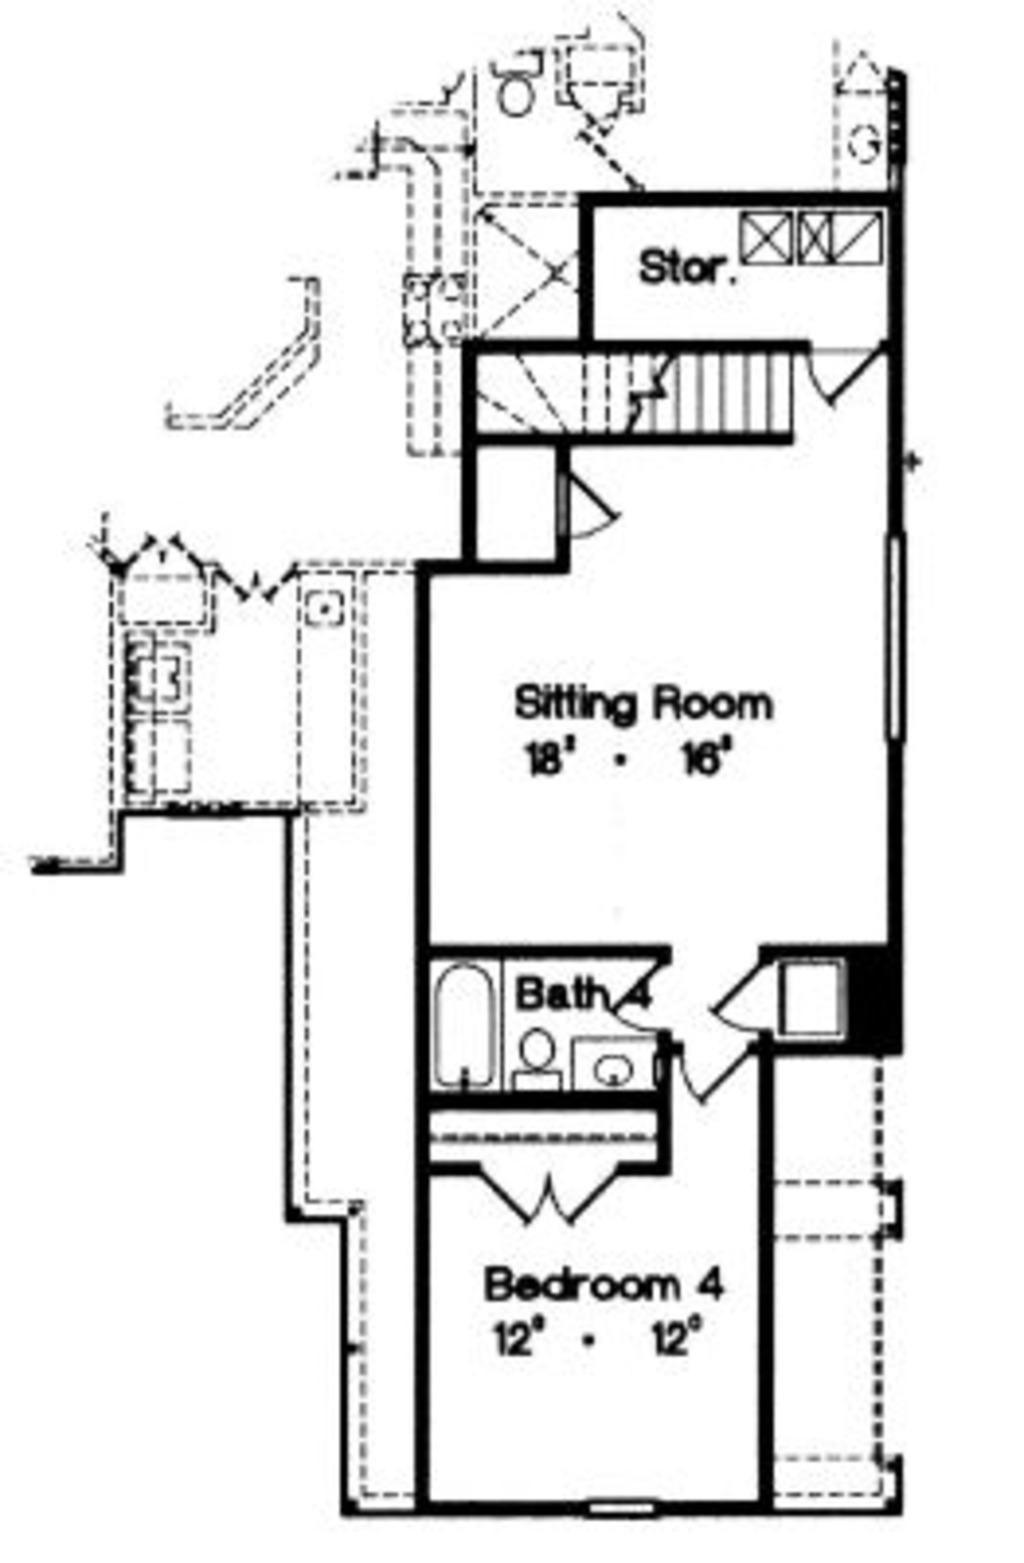door: (458, 1153, 624, 1243), (667, 1028, 757, 1114), (790, 343, 899, 411), (546, 460, 619, 553), (614, 948, 673, 1047), (712, 960, 775, 1041)
large_sink: (451, 37, 555, 138), (514, 1028, 555, 1097)
small_sink: (575, 1047, 661, 1092)
stairs: (456, 350, 787, 452)
tub: (419, 960, 512, 1089)
window: (873, 534, 921, 743)
